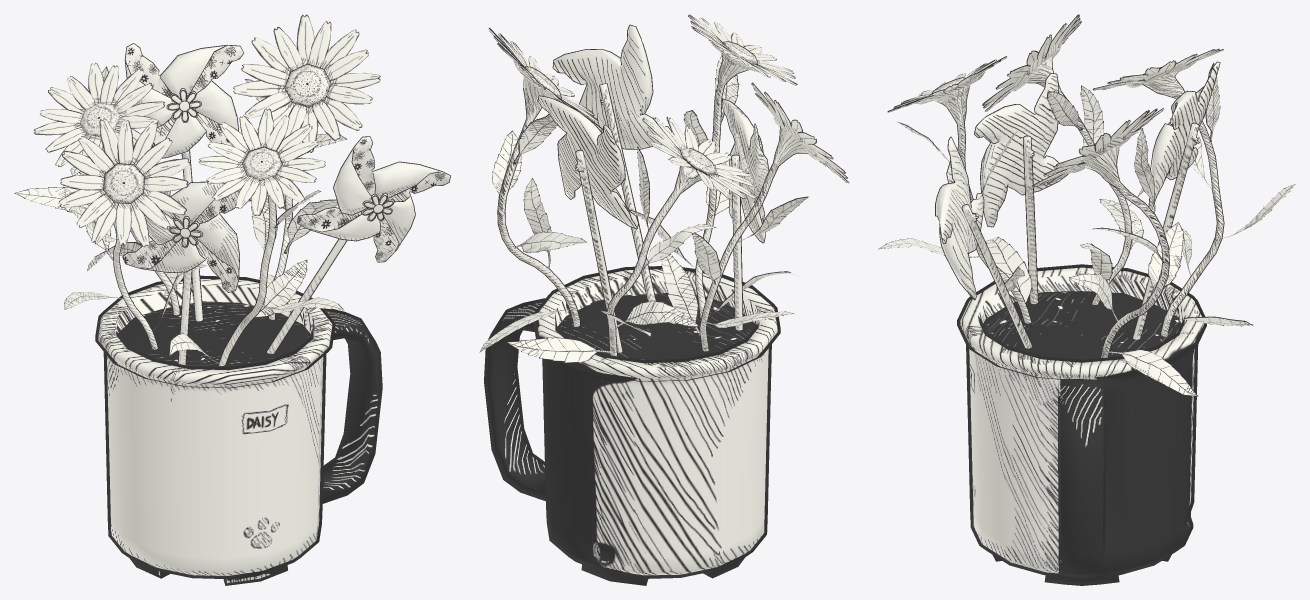
3 views of the same model, side by side, from view 1: azimuth 30°, elevation 25°; view 2: azimuth 150°, elevation 25°; view 3: azimuth 270°, elevation 25° (orthographic). The views are drawn at different scales.
Parts seen in each view (by area): view 1: mug, daisy.003, daisy.001, daisy.004, fan1, fan2, daisy.002, fan3, soil, mug hull, fan1 hull, fan2 hull (+2 smaller); view 2: mug, daisy.002, daisy.003, fan1, daisy.001, soil, fan2, mug hull, daisy.004, fan3, daisy3 hull, daisy4 hull (+5 smaller); view 3: mug, daisy.003, soil, fan3, mug hull, daisy.001, daisy.002, fan1, daisy.004, fan2, daisy2 hull, daisy3 hull (+5 smaller).
Boxes of the visible parts, x1,y1,x2,y2 form: mug: (98,279,379,583); daisy.003: (233,14,380,319); daisy.001: (58,118,206,349); daisy.004: (169,108,343,366); fan1: (267,137,449,353); fan2: (125,43,243,321); daisy.002: (14,62,183,315); fan3: (123,182,251,365); soil: (118,301,313,367); mug hull: (95,275,382,585); fan1 hull: (266,136,450,352); fan2 hull: (124,43,243,320); mug: (487,269,777,583); daisy.002: (506,116,757,362); daisy.003: (479,28,602,352); fan1: (553,25,671,301); daisy.001: (661,83,848,351); soil: (557,293,756,359); fan2: (538,96,638,352); mug hull: (484,266,780,585); daisy.004: (630,15,797,318); fan3: (722,99,768,330); daisy3 hull: (489,27,602,325); daisy4 hull: (629,14,797,317); mug: (960,267,1203,582); daisy.003: (1032,108,1198,396); soil: (983,291,1181,359); fan3: (974,74,1065,304); mug hull: (957,264,1206,585); daisy.001: (982,15,1143,304); daisy.002: (1093,49,1295,336); fan1: (936,137,1031,348); daisy.004: (878,56,1031,323); fan2: (1133,62,1219,339); daisy2 hull: (1093,48,1279,335); daisy3 hull: (1032,108,1169,357).
Bounding box in the file's own units: 3.72 × 5.07 × 3.86.
Materials: 17 (17 with a texture image).
